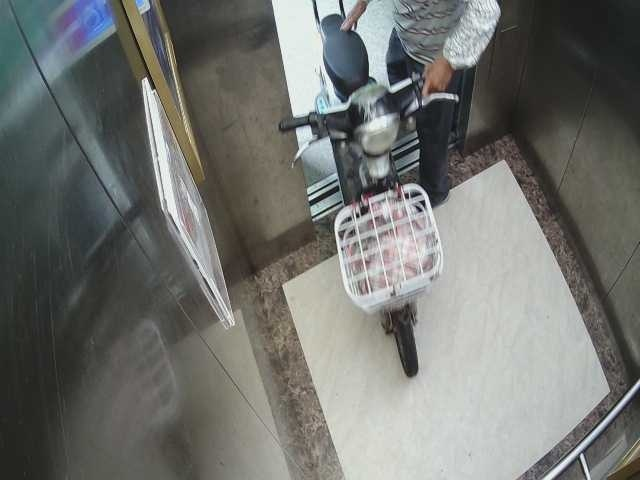emotor: (278, 4, 452, 387)
